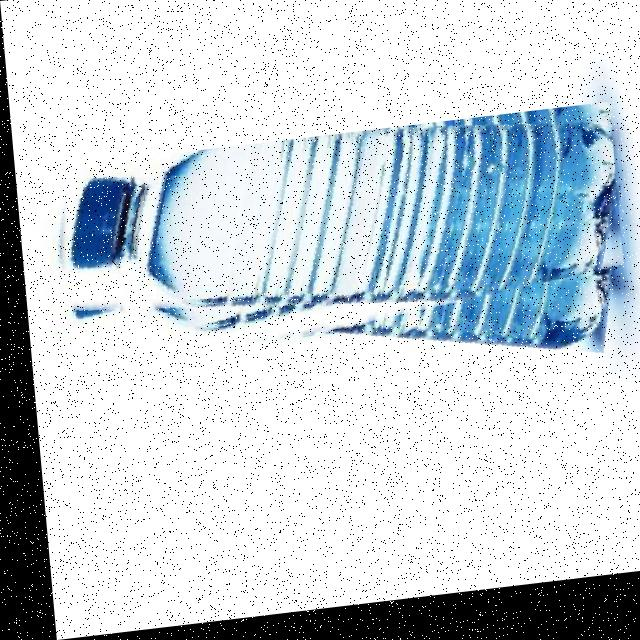litter: (36, 116, 621, 391)
